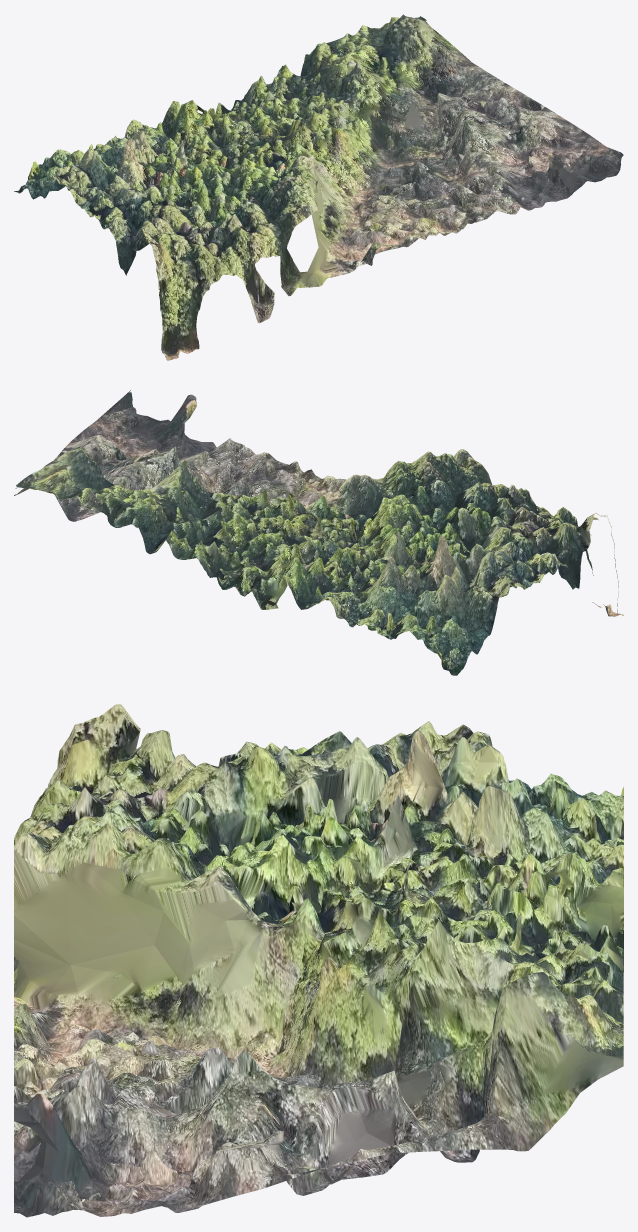
File: BlockBY_L19_24.glb
3 renders of one model, top to bottom at view 1: azimuth 30°, elevation 25°; view 2: azimuth 150°, elevation 25°; view 3: azimuth 270°, elevation 25°, orthographic. The views are drawn at different scales.
Visible parts, largest first — view 1: rtc; view 2: rtc; view 3: rtc.
Part boxes in pixels (box(x1,y1,x2,y2)): rtc: box(14, 14, 623, 360); rtc: box(14, 390, 623, 675); rtc: box(14, 704, 623, 1217).
Bounding box in the file's own units: 72.04 × 23.7 × 41.36.
3 materials, 3 textured.
